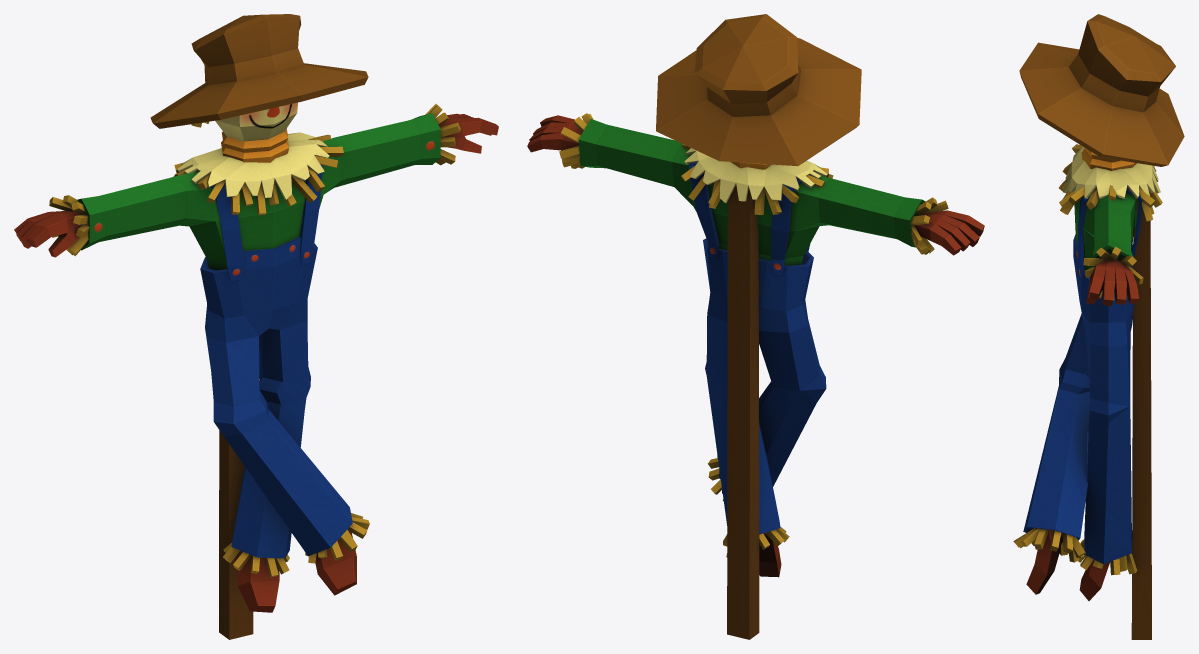
File: Scarecrow.glb
The picture shows the model from 3 angles, left to right: view 1: azimuth 30°, elevation 25°; view 2: azimuth 150°, elevation 25°; view 3: azimuth 270°, elevation 25°; orthographic projection. The views are drawn at different scales.
Visible parts, largest first — view 1: Scarecrow_mesh; view 2: Scarecrow_mesh; view 3: Scarecrow_mesh.
Boxes of the visible parts, box(x1,y1,x2,y2) form: Scarecrow_mesh: box(14, 14, 498, 639); Scarecrow_mesh: box(527, 14, 984, 639); Scarecrow_mesh: box(1013, 14, 1184, 639).
Bounding box in the file's own units: 2.65 × 3.43 × 0.8651.
1 material, 1 textured.
